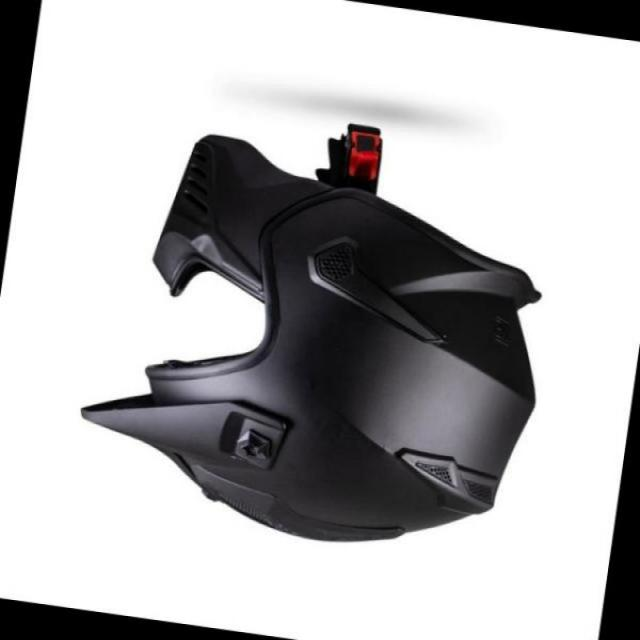Helmet: (73, 66, 570, 558)
